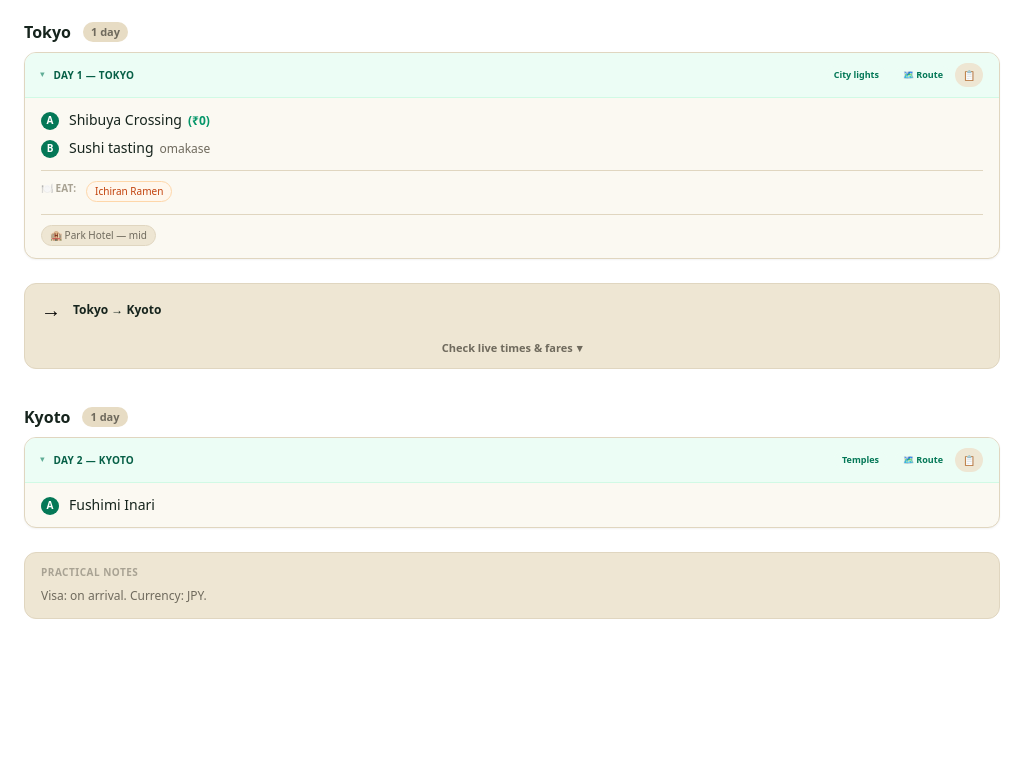
Test: ItineraryView › offers live transport links even when a leg has no curated connection data
Click the button "Check live times & fares ▾" at (512, 352), box [25, 336, 999, 368]
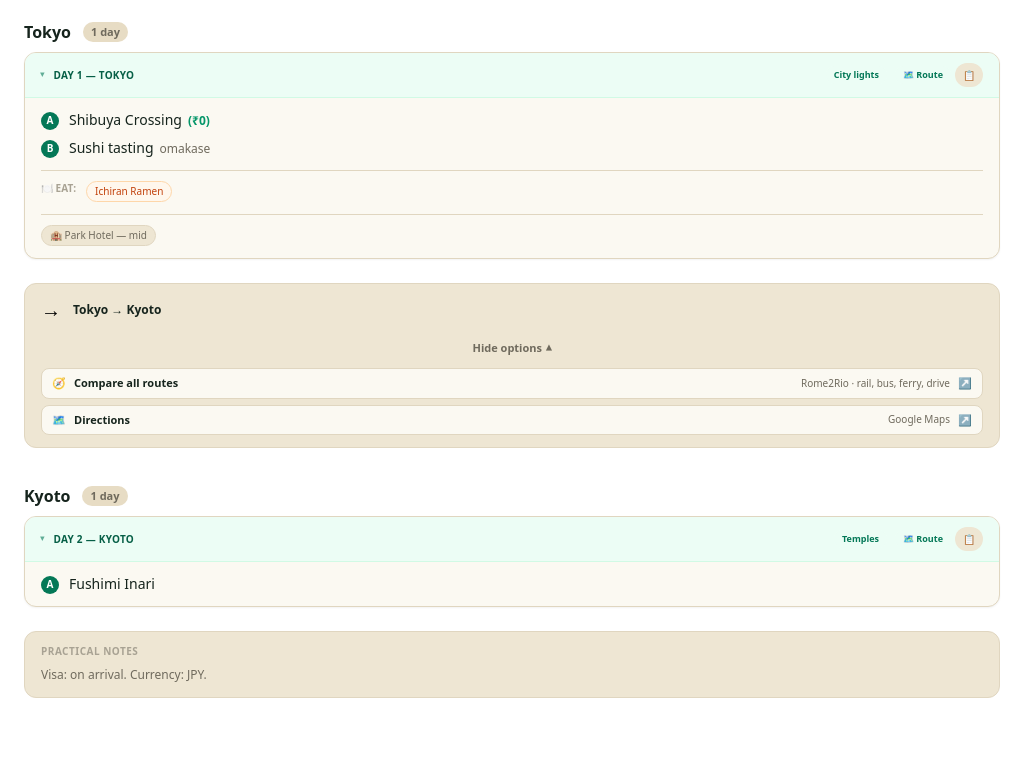
Check: the link "🗺 Directions Google Maps ↗" is shown, box [41, 404, 983, 435]
